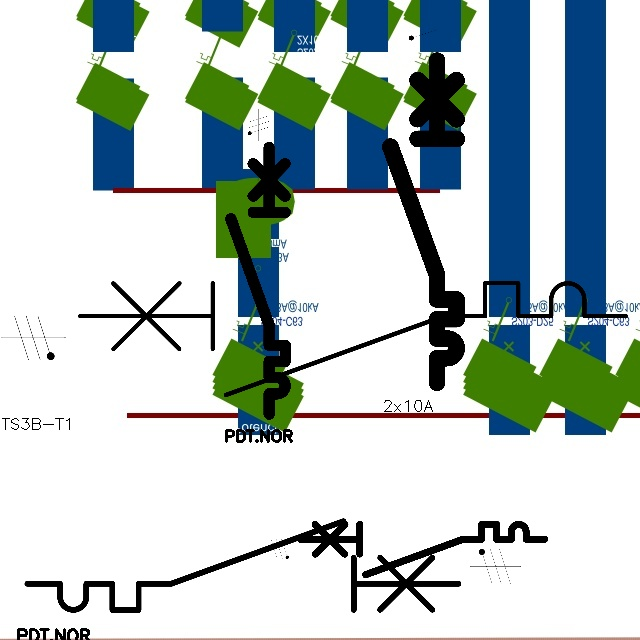interruptor_termomagnetico: (65, 269, 639, 409), (16, 510, 469, 621), (382, 52, 465, 391), (224, 140, 292, 421), (294, 518, 551, 581)
